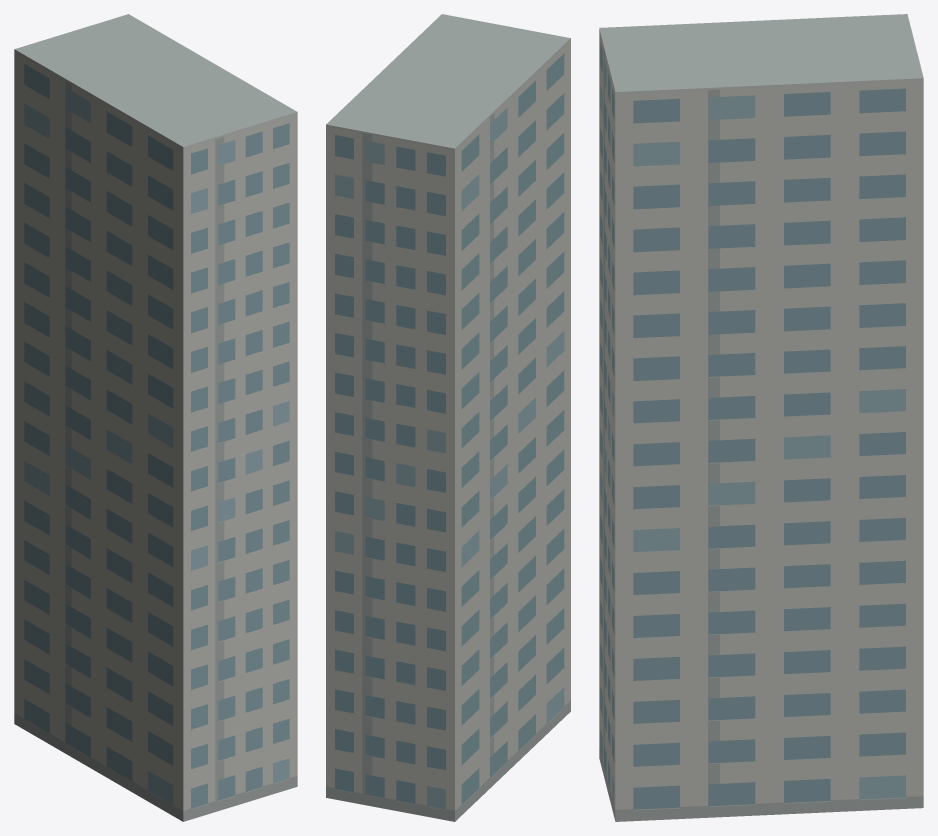
The model's file is residential-f95111b5-9404-4c1a-b196-443fe855d610.glb.
The picture shows the model from 3 angles, left to right: view 1: azimuth 30°, elevation 25°; view 2: azimuth 150°, elevation 25°; view 3: azimuth 270°, elevation 25°; orthographic projection. The views are drawn at different scales.
Parts seen in each view (by area): view 1: residential-f95111b5-9404-4c1a-b196-443fe855d610.tmp; view 2: residential-f95111b5-9404-4c1a-b196-443fe855d610.tmp; view 3: residential-f95111b5-9404-4c1a-b196-443fe855d610.tmp.
Part boxes in pixels (x1=…): residential-f95111b5-9404-4c1a-b196-443fe855d610.tmp: x1=14, y1=14, x2=297, y2=821; residential-f95111b5-9404-4c1a-b196-443fe855d610.tmp: x1=326, y1=14, x2=570, y2=821; residential-f95111b5-9404-4c1a-b196-443fe855d610.tmp: x1=599, y1=14, x2=923, y2=821.
Size of the model in its own units: 18.37 by 80 by 32.25.
